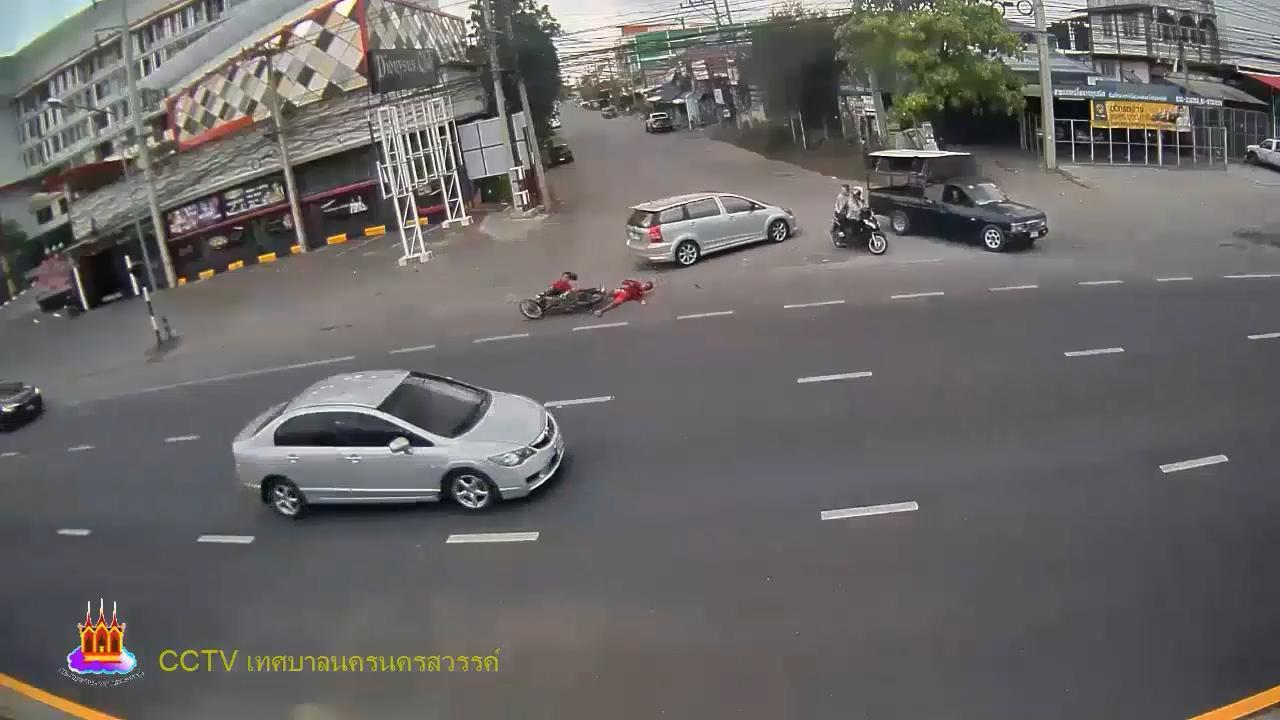accident: (596, 279, 655, 320)
